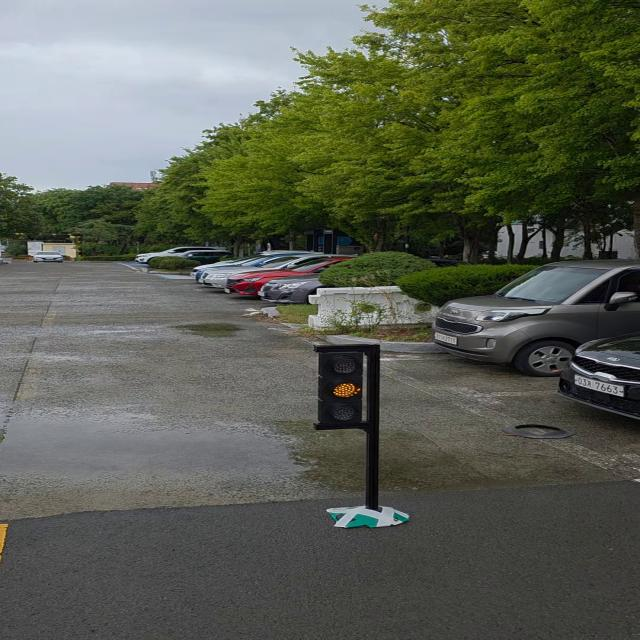yellow: (314, 348, 376, 430)
